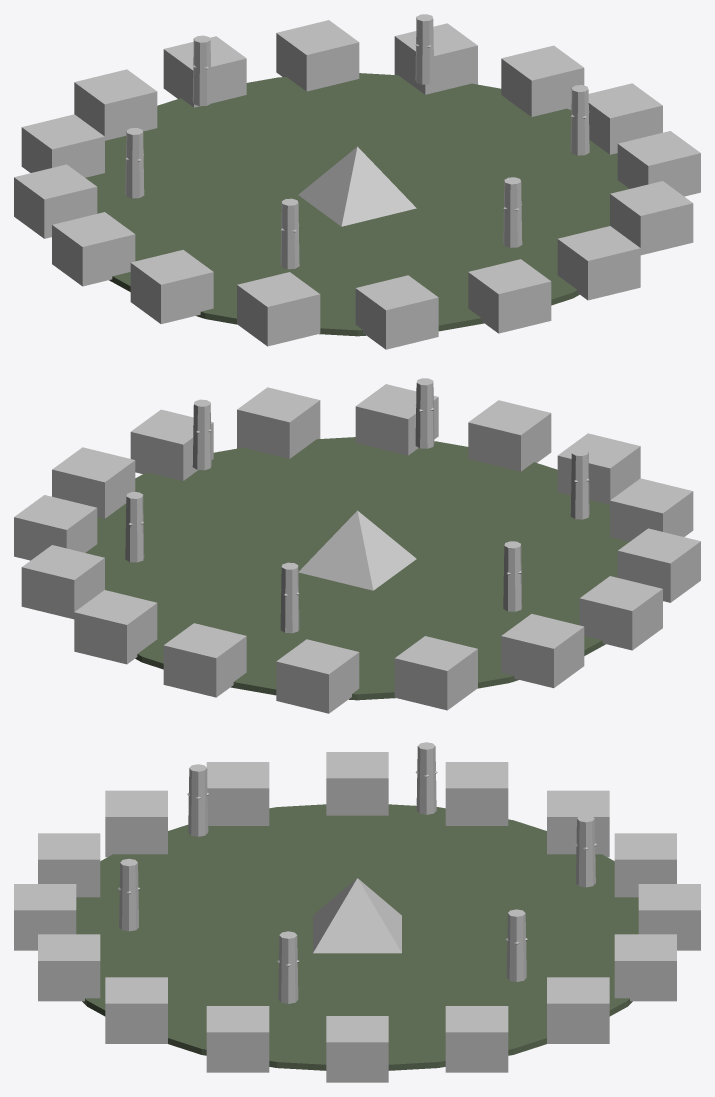
The model's file is layout_main.obj.
3 views of the same model, one above another, from view 1: azimuth 30°, elevation 25°; view 2: azimuth 150°, elevation 25°; view 3: azimuth 270°, elevation 25° (orthographic). The views are drawn at different scales.
Parts seen in each view (by area): view 1: floor, ring, pillars, center; view 2: floor, ring, pillars, center; view 3: floor, ring, pillars, center.
Boxes of the visible parts, left/top/right/bottom form: floor: left=85, top=73, right=629, bottom=336; ring: left=14, top=20, right=700, bottom=349; pillars: left=125, top=14, right=589, bottom=269; center: left=298, top=146, right=416, bottom=226; floor: left=85, top=437, right=629, bottom=700; ring: left=14, top=384, right=700, bottom=713; pillars: left=125, top=378, right=589, bottom=633; center: left=298, top=510, right=416, bottom=590; floor: left=76, top=804, right=638, bottom=1070; ring: left=14, top=752, right=700, bottom=1082; pillars: left=118, top=742, right=596, bottom=1003; center: left=313, top=878, right=401, bottom=953.
Size of the model in its own units: 30.8 by 4.95 by 30.8.
